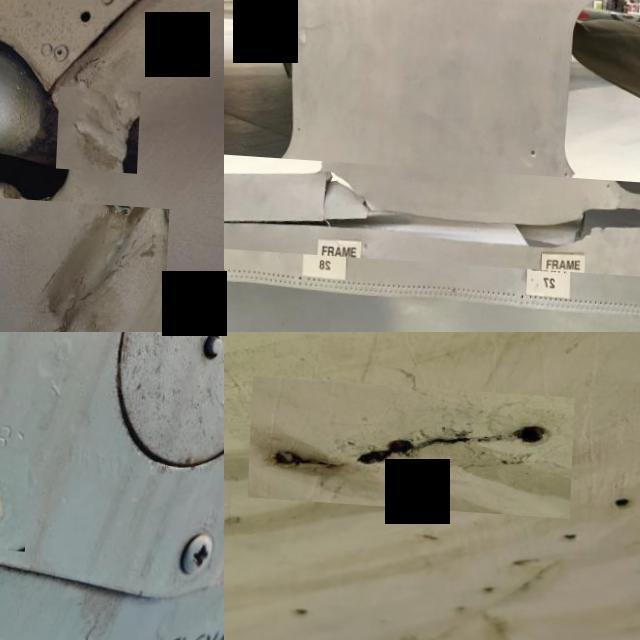Crack: (251, 374, 578, 512), (224, 159, 640, 249)
Dent: (0, 193, 170, 332), (57, 82, 142, 168)
Missing_Fastener: (0, 441, 33, 550)
